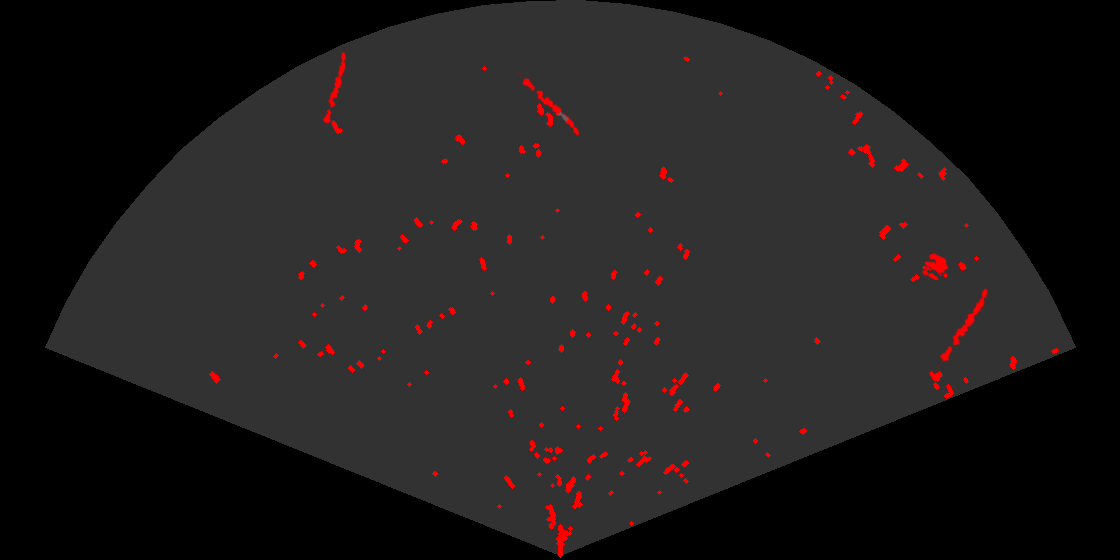ball: (920, 252, 950, 282)
chain: (933, 287, 989, 372), (516, 70, 581, 137), (321, 50, 348, 128)
